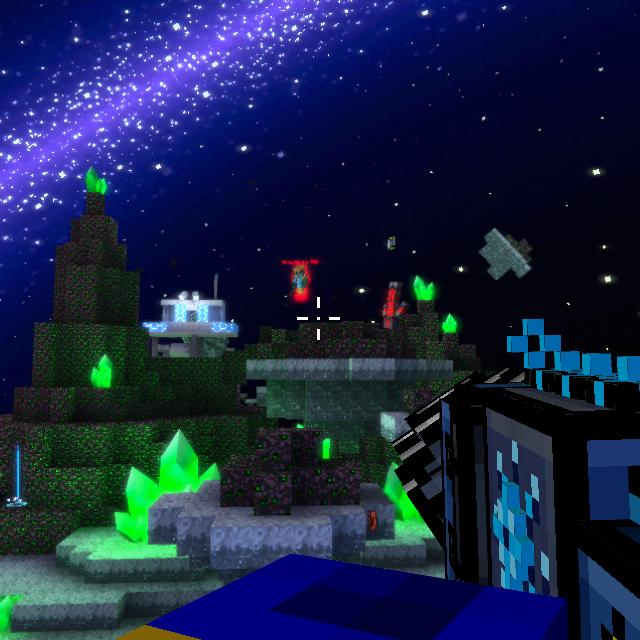Enemy: (291, 266, 307, 295)
